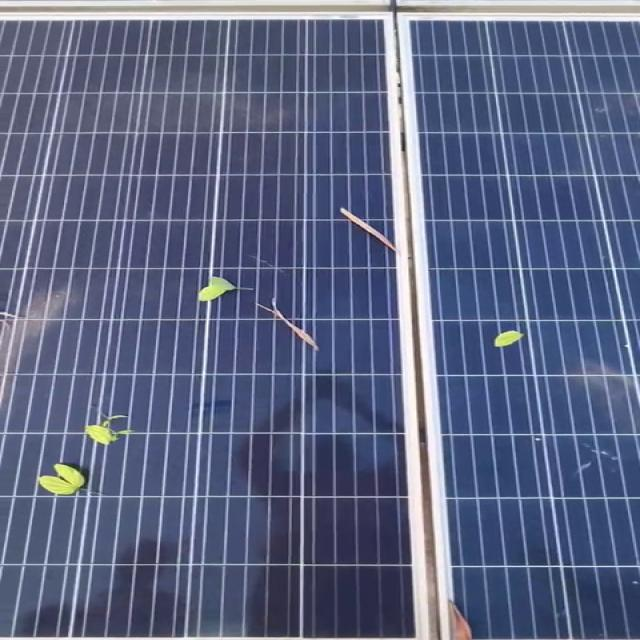dust_partical: (120, 76, 312, 153)
old_leaf: (150, 261, 333, 352), (3, 427, 168, 506), (310, 204, 432, 252), (492, 326, 545, 356)
